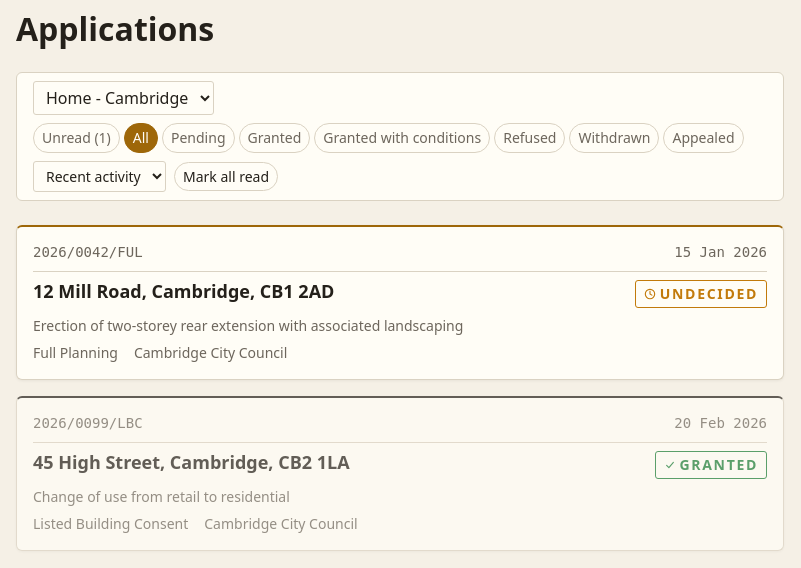
ApplicationsPage — Unread chip › refetches with unread-only (server-side) when the Unread chip is clicked
expect the text "2026/0042/FUL" is shown: met, box [33,243,143,263]
expect the text "2026/0099/LBC" is shown: met, box [33,414,143,434]
Click the button "Unread (1)" at (76, 138), box [33,123,120,153]
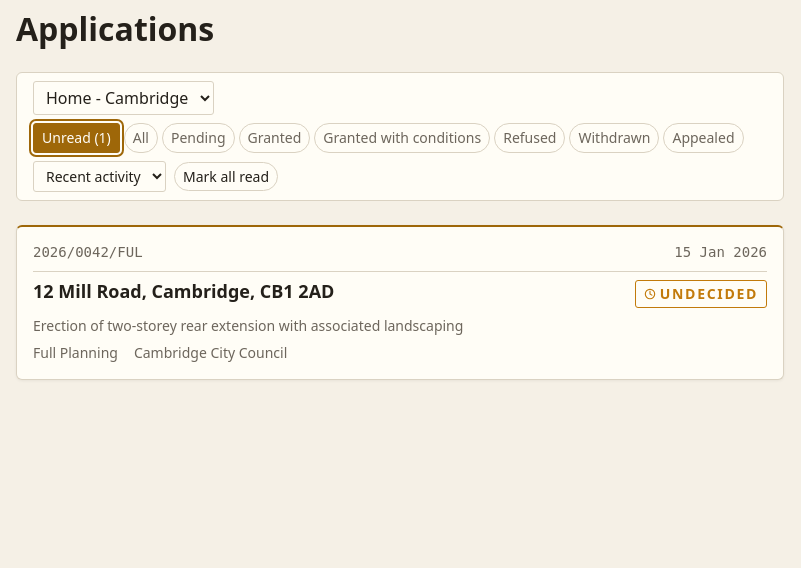
expect the text "2026/0042/FUL" is shown: met, box [33,243,143,263]
expect the link "2026/0099/LBC" is gone: met
